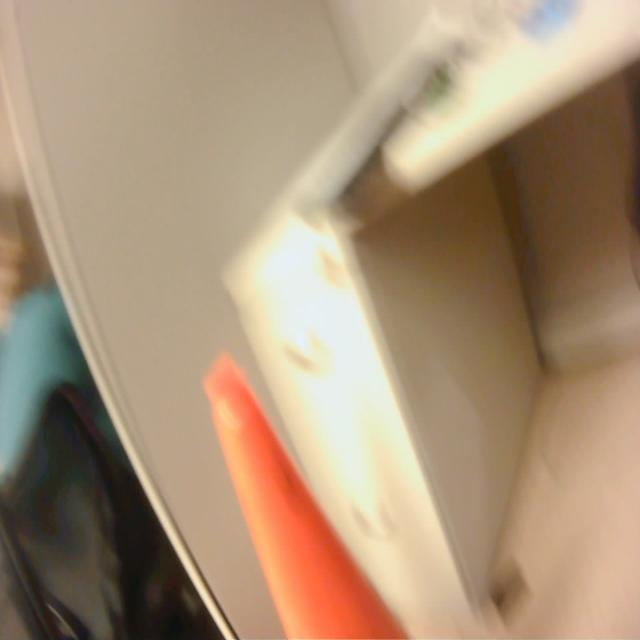traffic cone: (199, 333, 416, 640)
